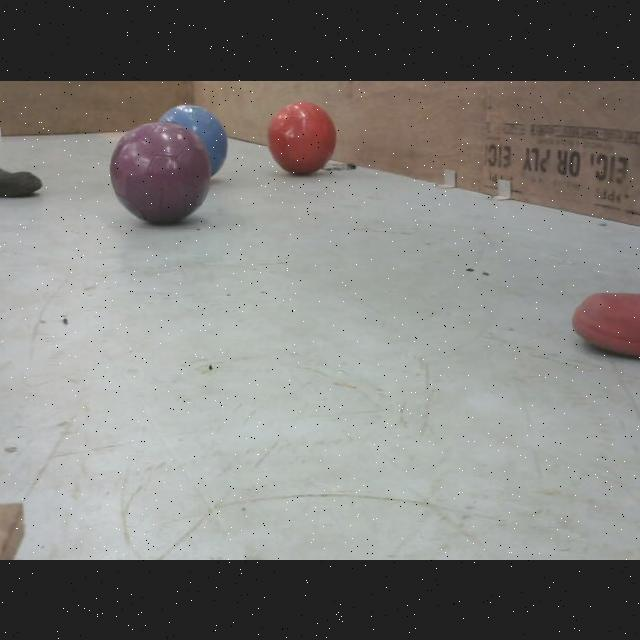B: (155, 102, 227, 178)
P: (110, 120, 212, 224)
R: (266, 99, 338, 175)
